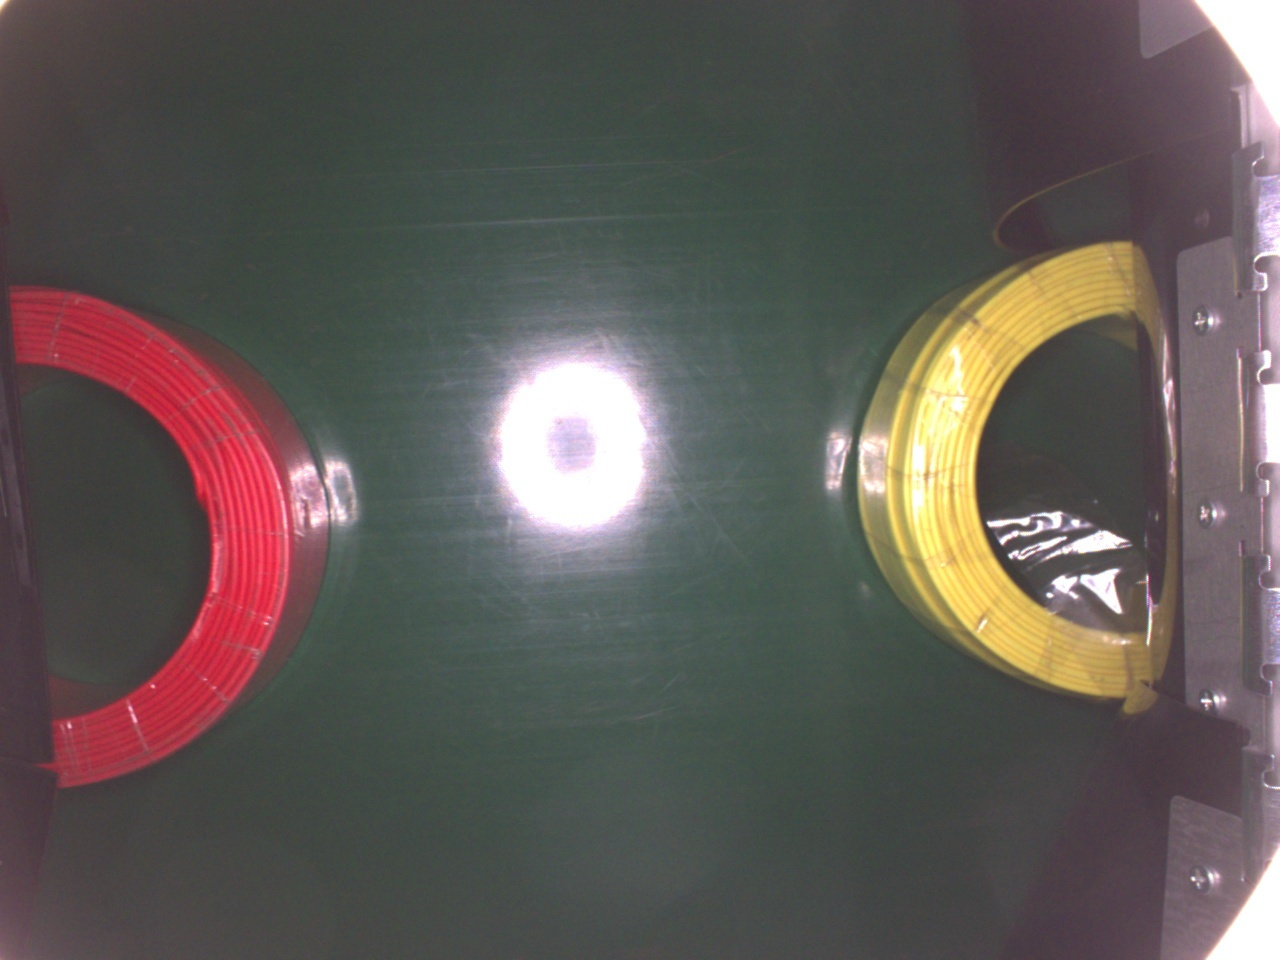red: (10, 279, 331, 794)
yellow: (858, 238, 1165, 705)
